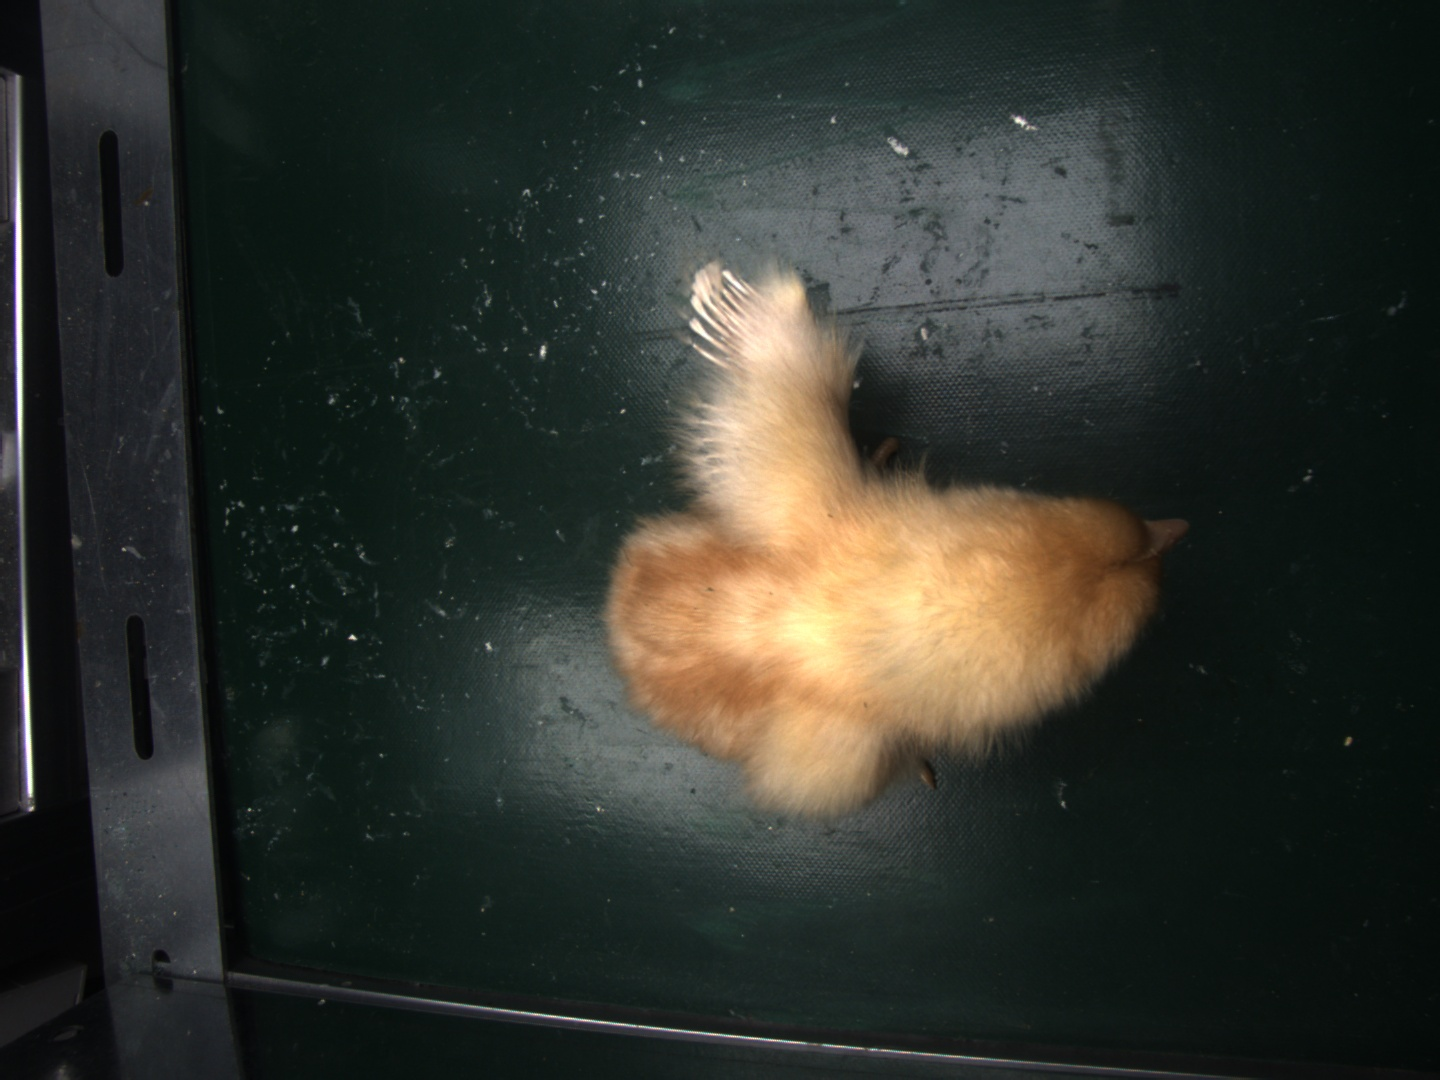female: (686, 262, 760, 364)
